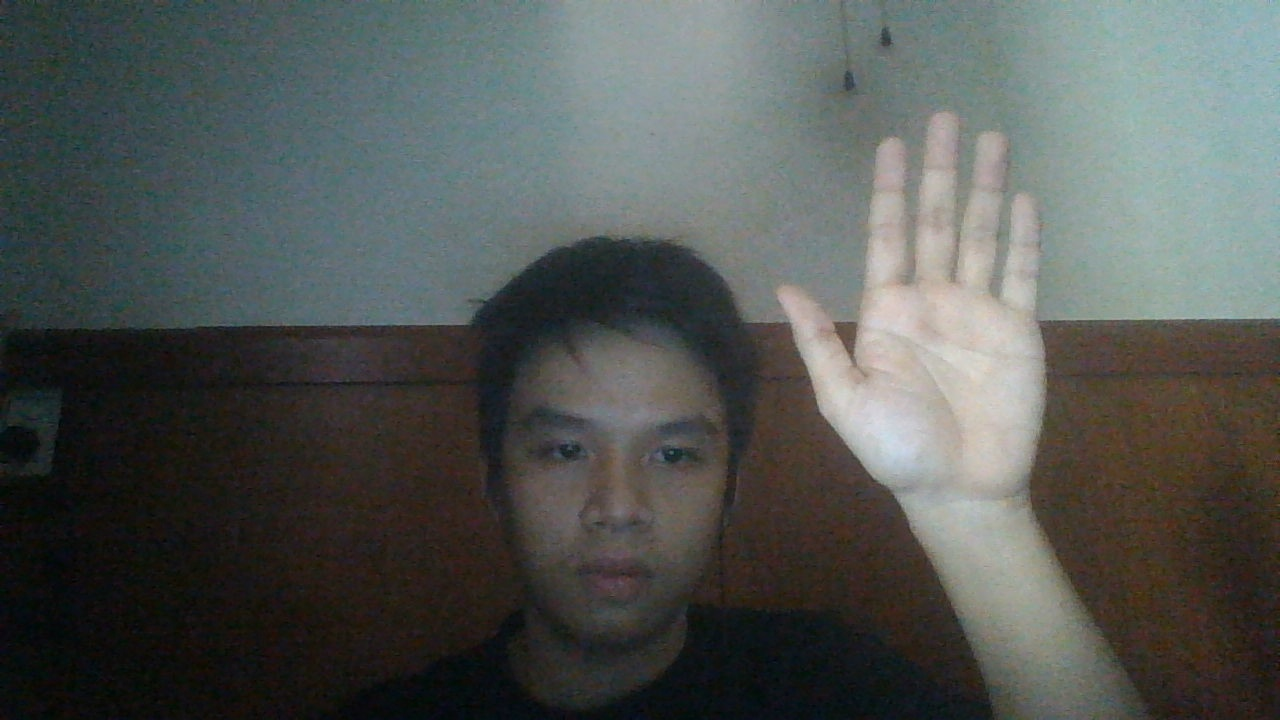check: (774, 107, 1052, 517)
